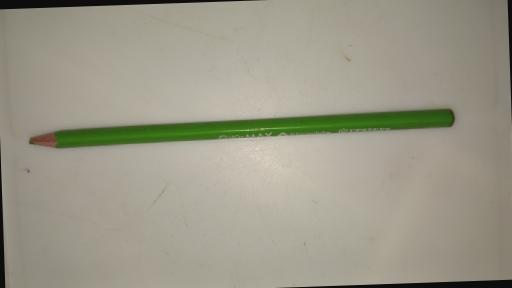Pencil: (26, 108, 458, 150)
